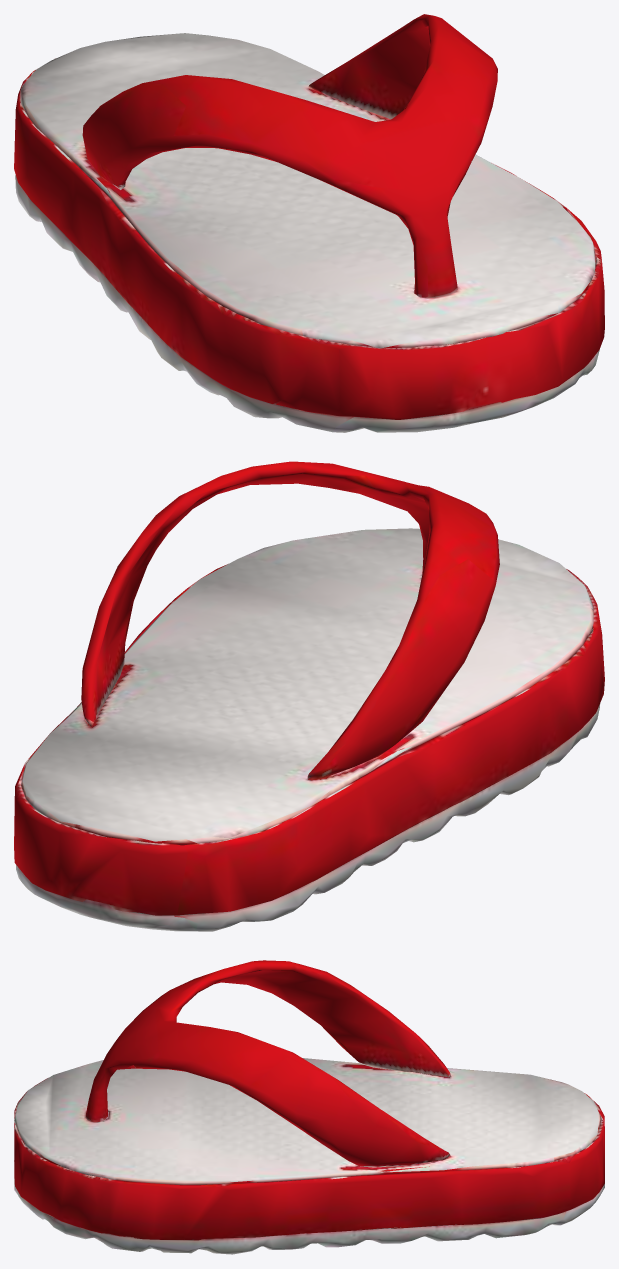
Rendered from slipper.glb.
3 views of the same model, one above another, from view 1: azimuth 30°, elevation 25°; view 2: azimuth 150°, elevation 25°; view 3: azimuth 270°, elevation 25° (orthographic). The views are drawn at different scales.
Visible parts, largest first — view 1: Mesh0; view 2: Mesh0; view 3: Mesh0.
Part boxes in pixels (bbox=[...]): Mesh0: bbox=[14, 14, 604, 432]; Mesh0: bbox=[14, 461, 604, 931]; Mesh0: bbox=[14, 960, 604, 1254].
Size of the model in its own units: 0.5426 by 0.3573 by 1.
Materials: 1 (1 with a texture image).
